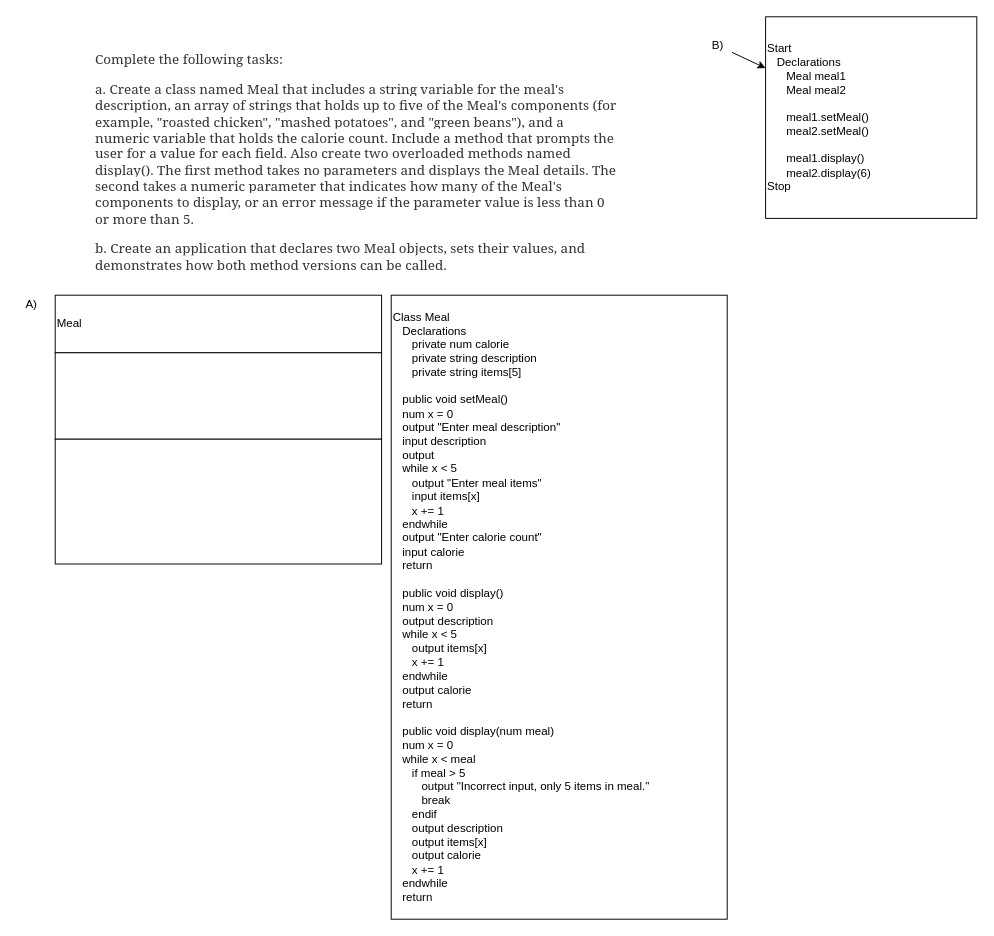
This 994x936 diagram has some shape labels left out. The centre of each missing label's shape, as x and y in pixels:
description : string items[5] : string calorie : num: the point at 218,395
setMeal() : void display(): void display(meal : num) : void: the point at 218,501
